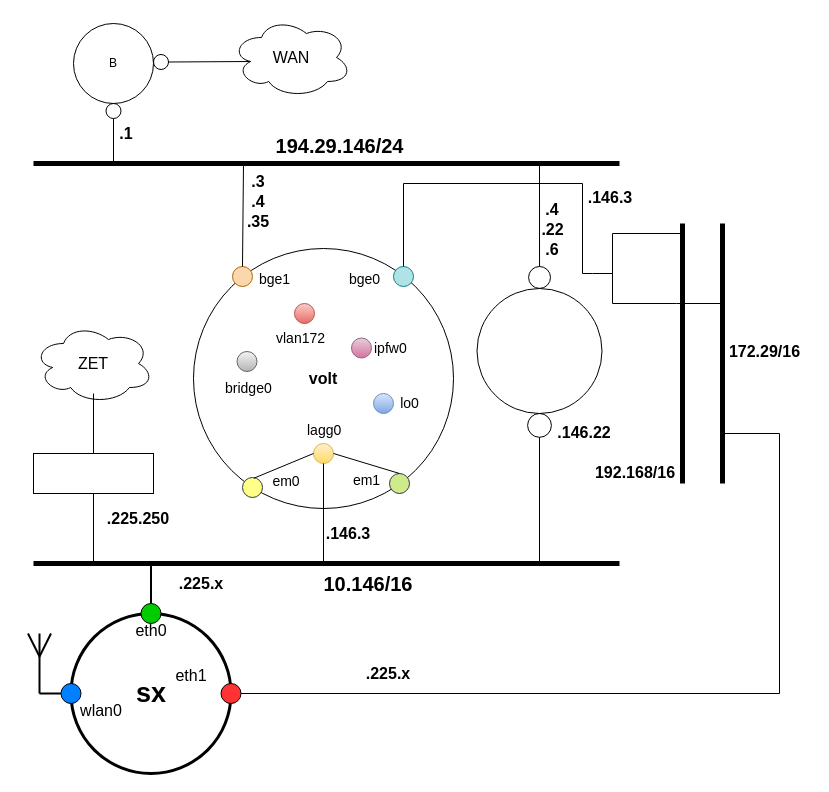
Image size: 829x792. Some labels were removed from this diagram. Each missing label, with the box of its shape:
ap225: (32, 452, 154, 494)
nat nas2 ftp dhcp: (476, 288, 602, 414)
